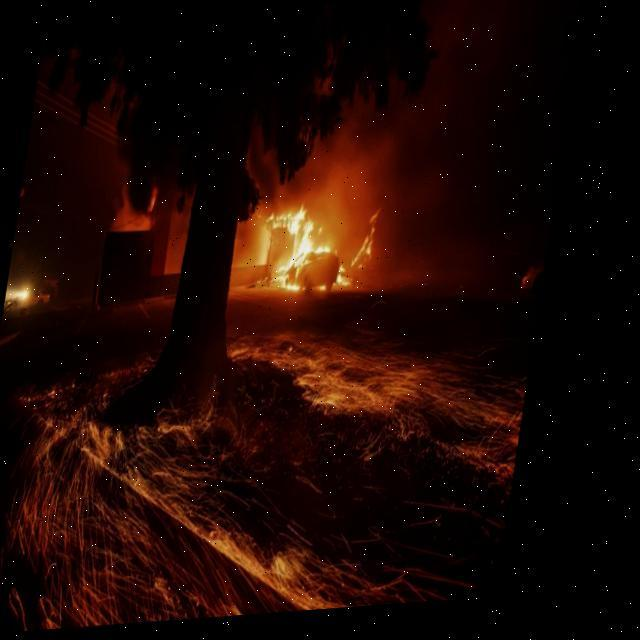Fire: (282, 210, 324, 292), (358, 218, 392, 276), (321, 250, 342, 262), (346, 269, 356, 289)
